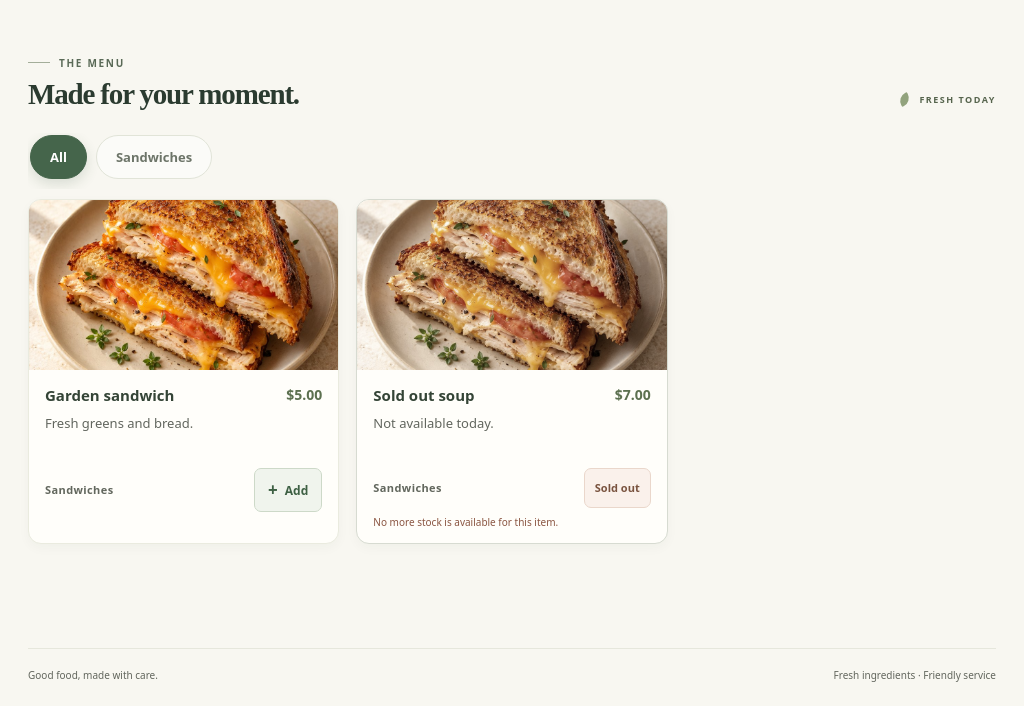
Test: checkout client acceptance criteria › AC-M5 refreshes the menu while browsing and requires consent for a changed cart price
The image size is (1024, 706).
(page scrolled)
Click the button with aria-label "Add Garden sandwich" at x=288, y=490, box [254, 468, 322, 512]
Wait 60000 ms
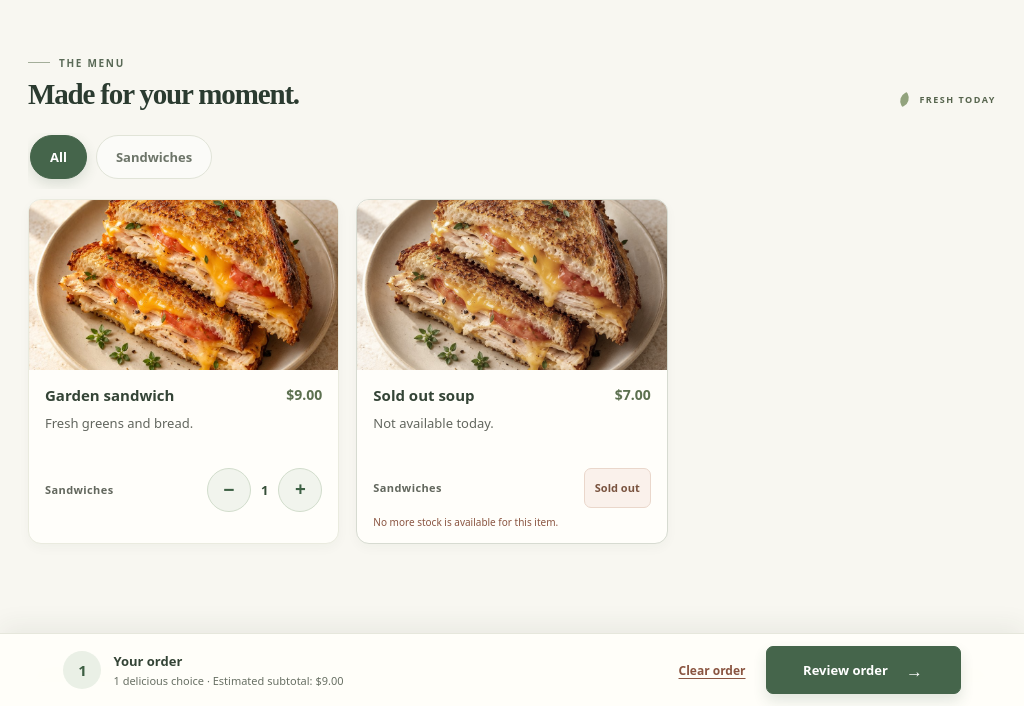
Expected: the text "$9.00" is shown, [286, 384, 322, 404]
Click the button "Review order →" at x=863, y=670, box [766, 646, 960, 694]
(page scrolled)
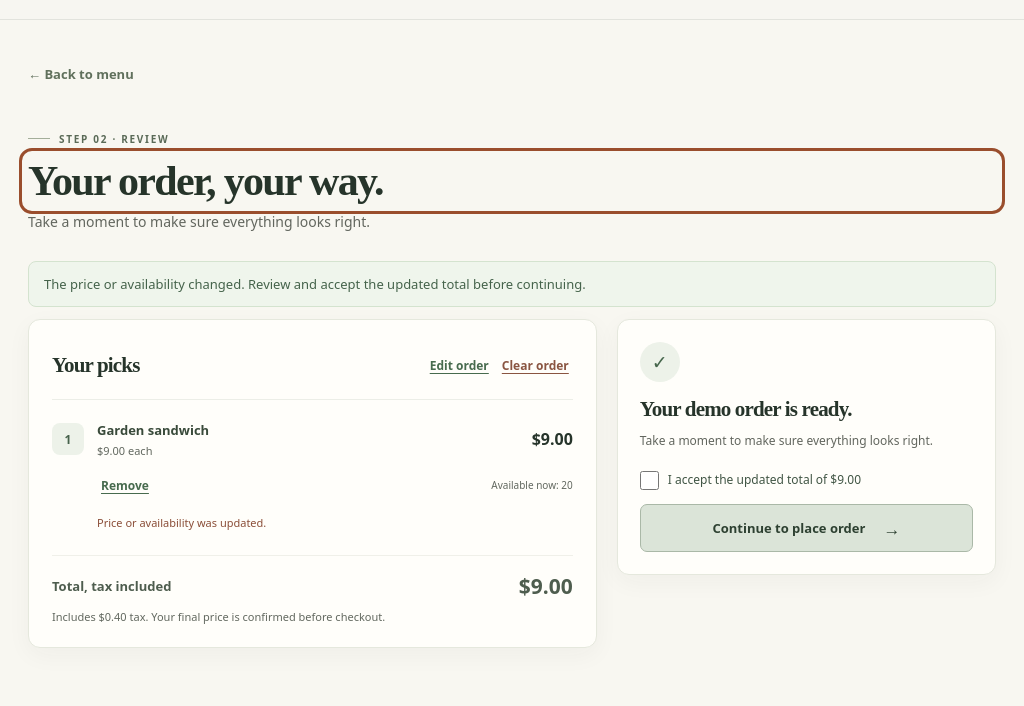
Expected: the checkbox labelled "I accept the updated total of $9.00" is shown, [640, 471, 659, 490]
Expected: the text "Price or availability was updated." is shown, [97, 515, 266, 530]
Expected: the button "Continue to place order →" is disabled, [640, 504, 973, 552]
